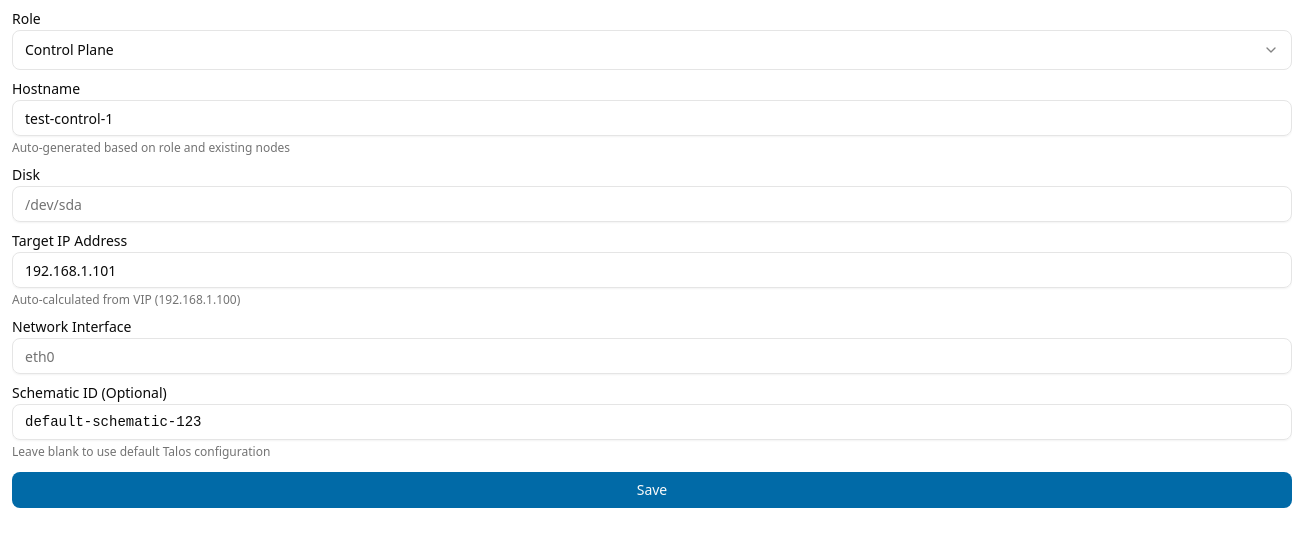
Test: NodeForm Integration Tests › Priority 2: Edge Cases › Form Validation › shows error when hostname has invalid characters
Replace the text in the field labelled "Hostname" with "Invalid_Hostname" at (652, 118), box [12,100,1292,136]
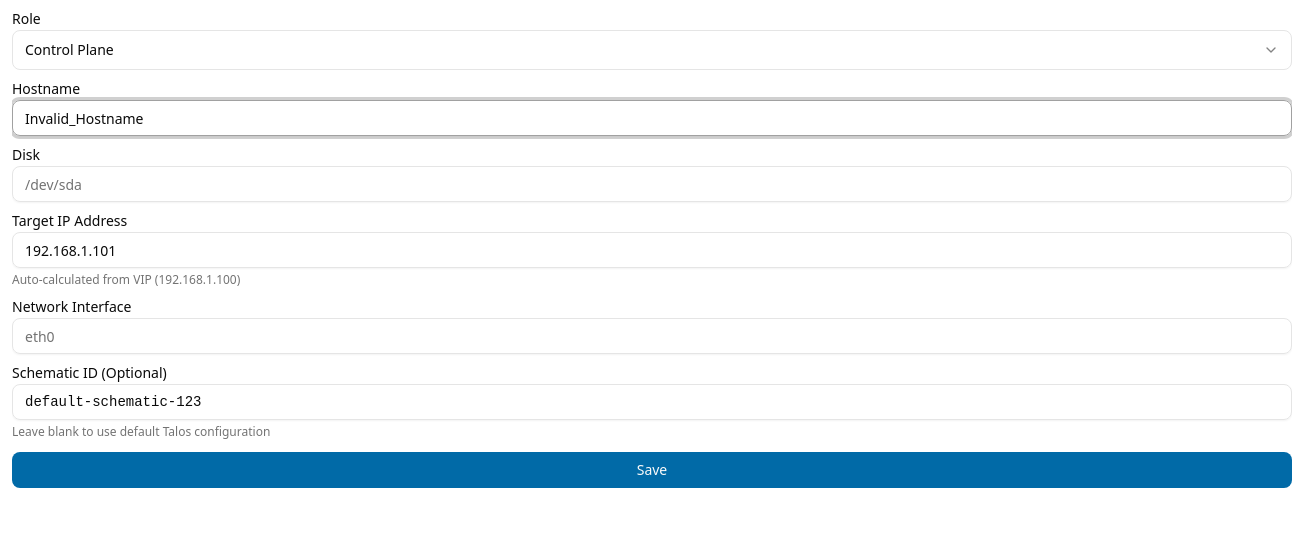
Click the button "Save" at (652, 470), box [12,452,1292,488]
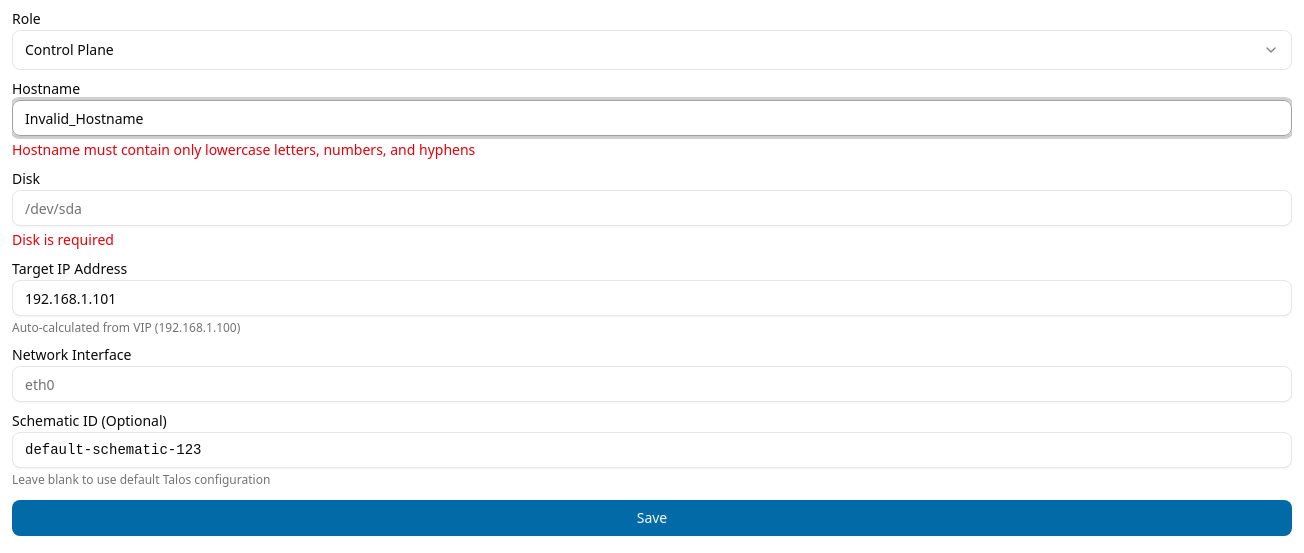
Now the text "must contain only lowercase" is shown, box [12,140,475,159]
